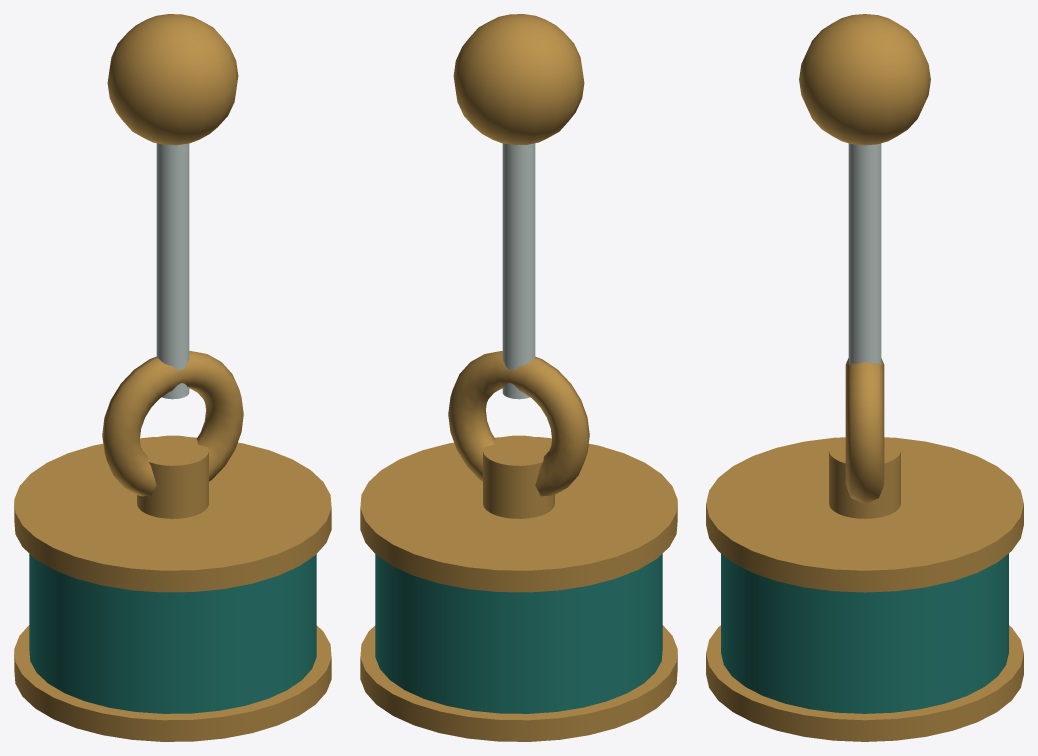
File: effort-hanger-100g.glb
3 views of the same model, side by side, from view 1: azimuth 30°, elevation 25°; view 2: azimuth 150°, elevation 25°; view 3: azimuth 270°, elevation 25° (orthographic).
Parts seen in each view (by area): view 1: weight-rim (×2), teal-weight, application-point, effort-hook, effort-cord, effort-neck; view 2: weight-rim (×2), teal-weight, application-point, effort-hook, effort-cord, effort-neck; view 3: weight-rim (×2), teal-weight, application-point, effort-cord, effort-hook, effort-neck.
Boxes of the visible parts, <box> form: weight-rim (×2): <box>14,437,331,741</box>; teal-weight: <box>29,554,316,713</box>; application-point: <box>107,14,238,145</box>; effort-hook: <box>102,351,243,496</box>; effort-cord: <box>156,143,189,399</box>; effort-neck: <box>137,435,208,518</box>; weight-rim (×2): <box>360,437,677,741</box>; teal-weight: <box>375,554,662,713</box>; application-point: <box>453,14,584,145</box>; effort-hook: <box>448,351,589,496</box>; effort-cord: <box>502,143,535,399</box>; effort-neck: <box>483,435,554,518</box>; weight-rim (×2): <box>706,437,1023,741</box>; teal-weight: <box>721,553,1008,713</box>; application-point: <box>799,14,930,145</box>; effort-cord: <box>848,143,881,364</box>; effort-hook: <box>845,358,884,503</box>; effort-neck: <box>829,438,900,518</box>.
Size of the model in its own units: 1.06 by 2.41 by 1.06.
